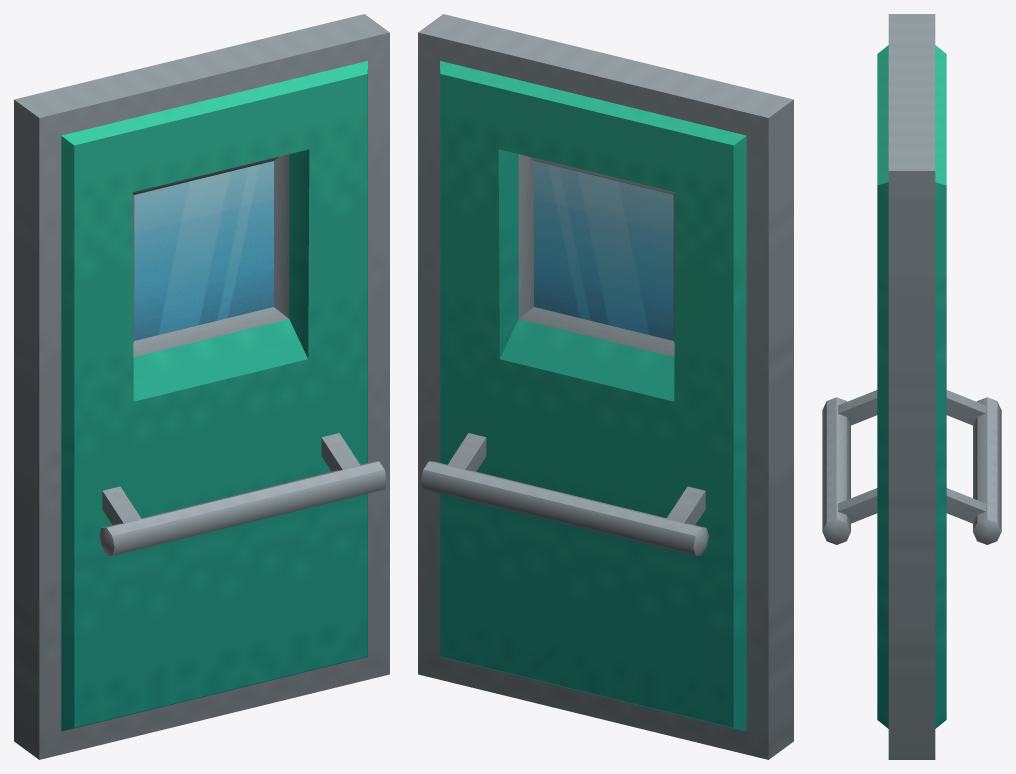
Rendered from door_A.gltf.
3 views of the same model, side by side, from view 1: azimuth 30°, elevation 25°; view 2: azimuth 150°, elevation 25°; view 3: azimuth 270°, elevation 25° (orthographic). The views are drawn at different scales.
Parts seen in each view (by area): view 1: door_A; view 2: door_A; view 3: door_A.
Part boxes in pixels (bbox=[...]): door_A: bbox=[14, 14, 389, 759]; door_A: bbox=[418, 14, 793, 759]; door_A: bbox=[822, 14, 1001, 759].
Bounding box in the file's own units: 1.6 × 2.8 × 0.7714.
Materials: 1 (1 with a texture image).
